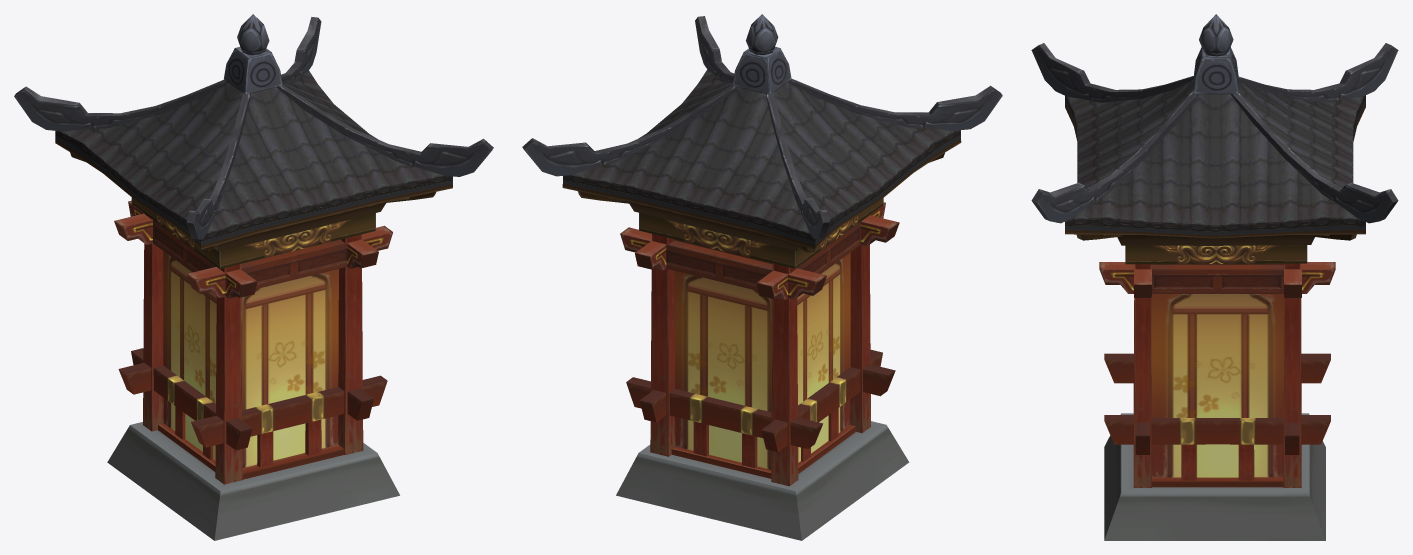
File: ZYbui_CLF_huxinting02.FBX
3 views of the same model, side by side, from view 1: azimuth 30°, elevation 25°; view 2: azimuth 150°, elevation 25°; view 3: azimuth 270°, elevation 25° (orthographic). The views are drawn at different scales.
Visible parts, largest first — view 1: ZYbui_CLF_huxinting02; view 2: ZYbui_CLF_huxinting02; view 3: ZYbui_CLF_huxinting02.
Part boxes in pixels (x1,y1,x2,y2): ZYbui_CLF_huxinting02: [14, 14, 493, 540]; ZYbui_CLF_huxinting02: [522, 14, 1002, 540]; ZYbui_CLF_huxinting02: [1031, 14, 1398, 540].
Size of the model in its own units: 305 by 440 by 305.
